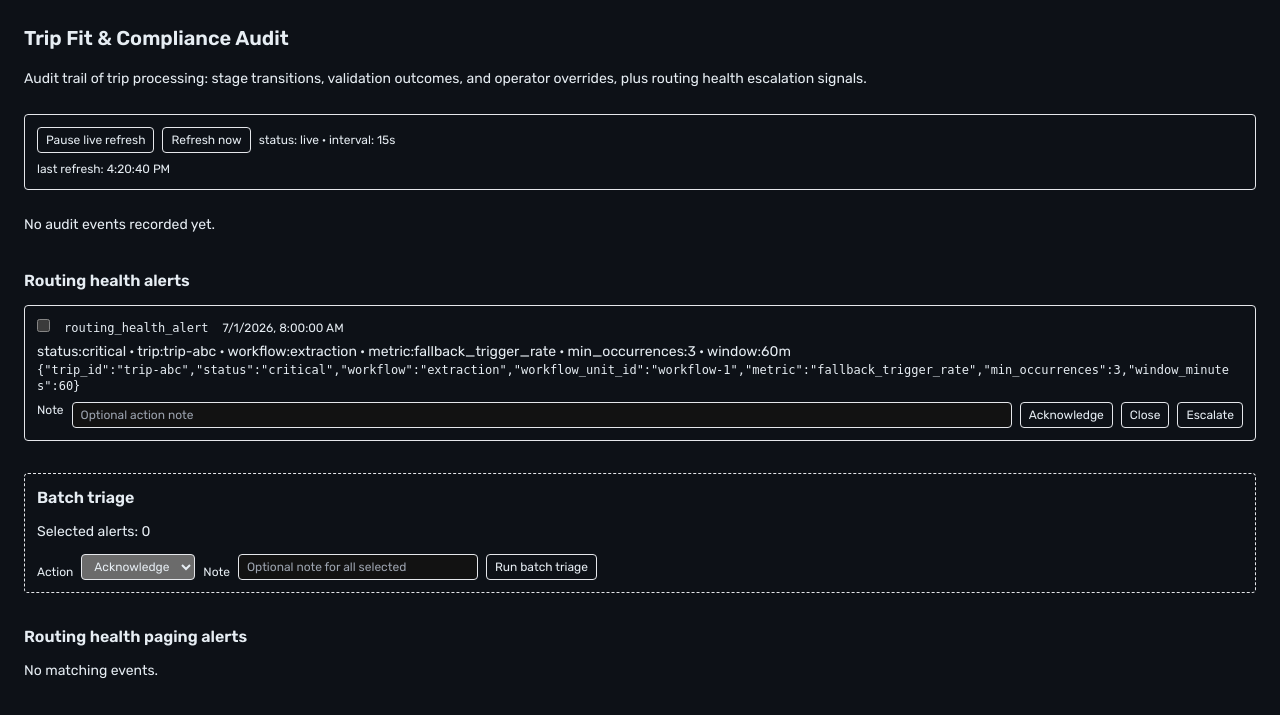
Scenario: AuditPage › supports posting routing health alert triage actions
Expected: the heading "Routing health alerts" is shown, [24,271,190,290]
In the field labelled "Note" below "routing_health_alert": point(542, 415) [72,402,1012,428], type "Escalate to ops queue"
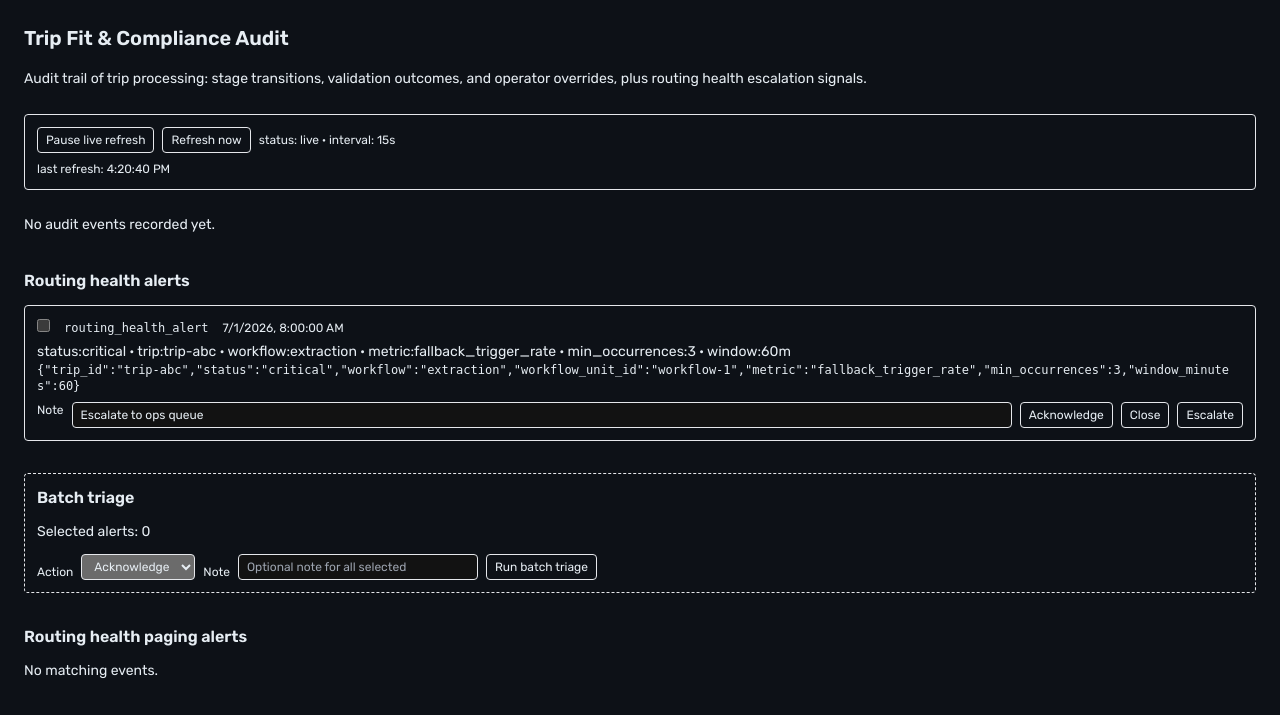
Click the button "Escalate": point(1210, 415) [1178,402,1243,428]
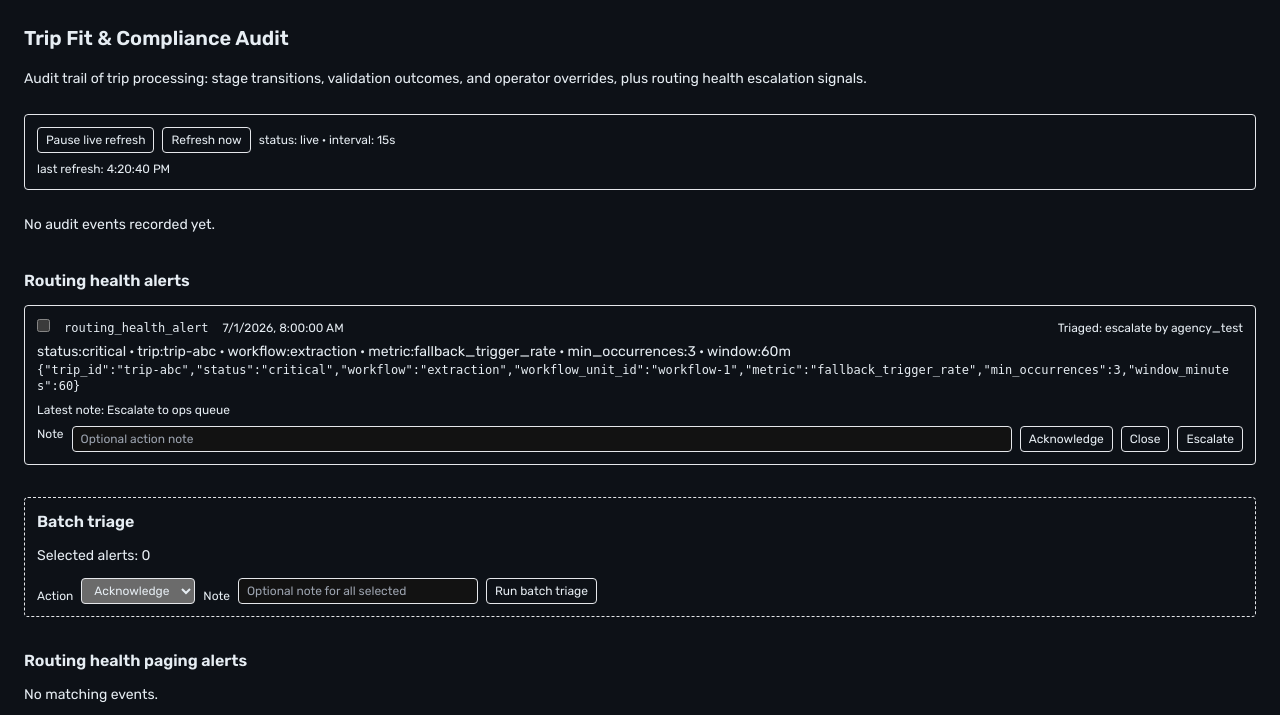
Expected: the text "Triaged: escalate by agency_test" is shown, [1058,320,1243,336]
